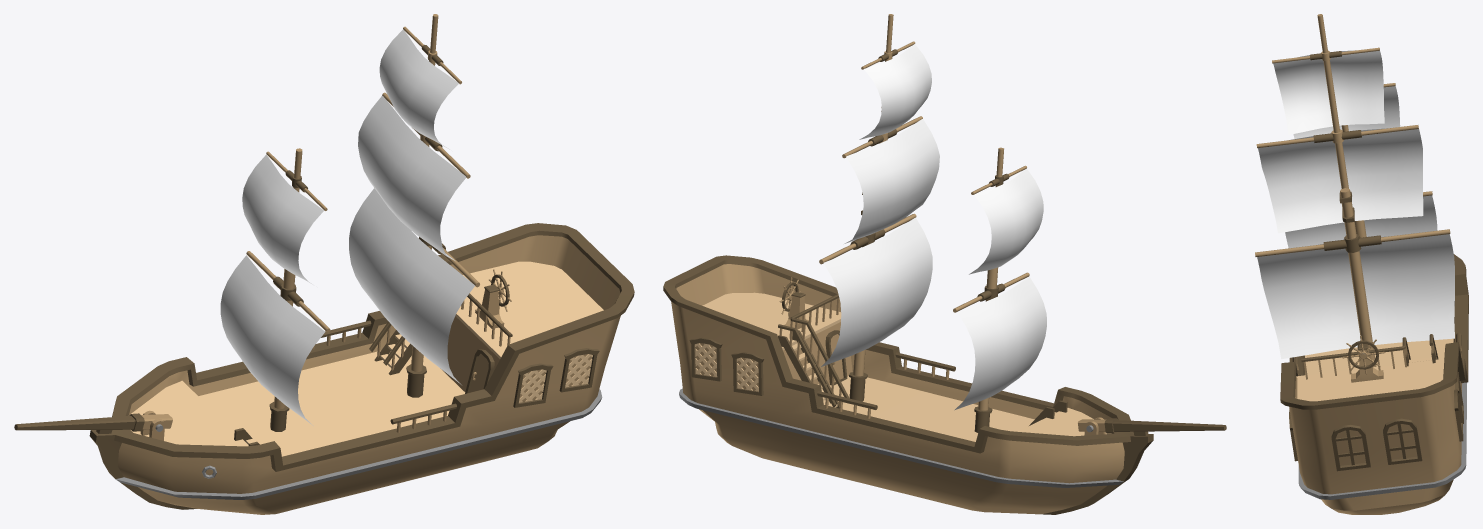
Rendered from Ship_01.fbx.
3 views of the same model, side by side, from view 1: azimuth 30°, elevation 25°; view 2: azimuth 150°, elevation 25°; view 3: azimuth 270°, elevation 25° (orthographic). The views are drawn at different scales.
Parts seen in each view (by area): view 1: pCube85; view 2: pCube85; view 3: pCube85.
Part boxes in pixels (x1,y1,x2,y2): pCube85: (14,14,634,514); pCube85: (663,14,1226,514); pCube85: (1255,14,1468,514).
Size of the model in its own units: 83.36 by 64.35 by 27.55.
